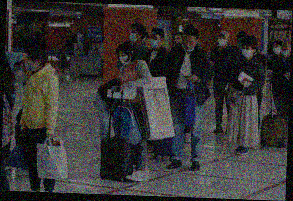mask_weared_incorrect: (183, 37, 196, 54), (281, 43, 291, 57)
with_mask: (24, 55, 37, 73), (149, 33, 162, 49), (118, 51, 131, 66), (216, 35, 229, 48), (129, 28, 139, 43), (242, 45, 253, 58), (272, 44, 283, 55)
without_mask: (173, 35, 184, 47)
